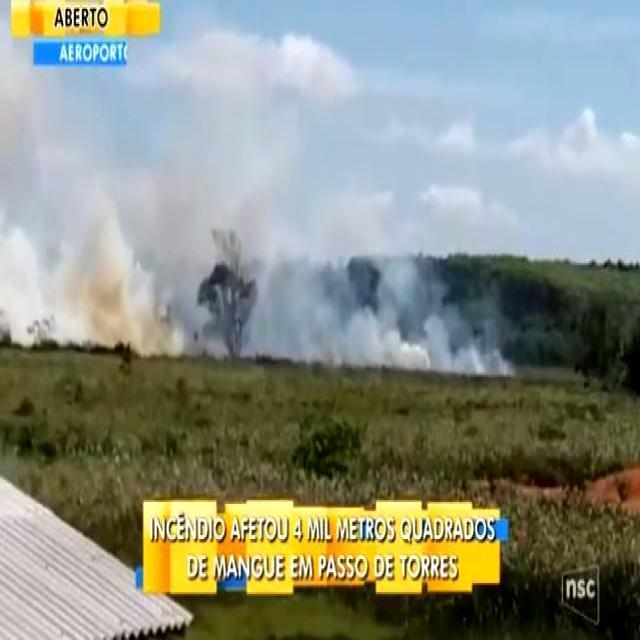Smoke: (3, 0, 165, 350), (167, 242, 520, 378)
